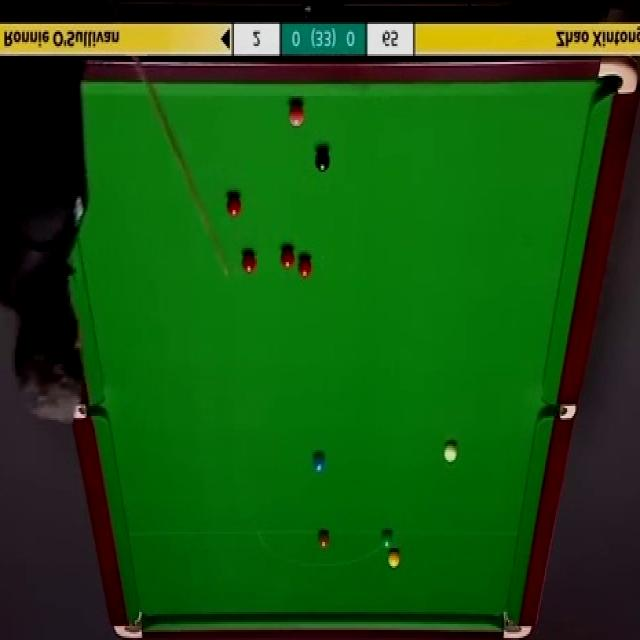pocket: (597, 55, 639, 97), (500, 608, 532, 640), (112, 611, 147, 640), (78, 403, 106, 422), (541, 405, 576, 420)
